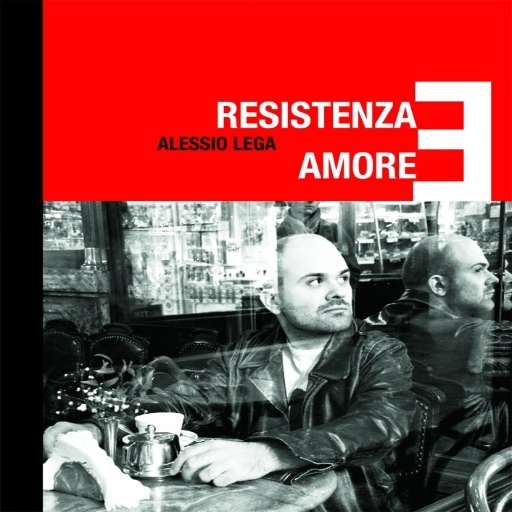hand: (171, 437, 311, 493), (42, 418, 100, 459)
